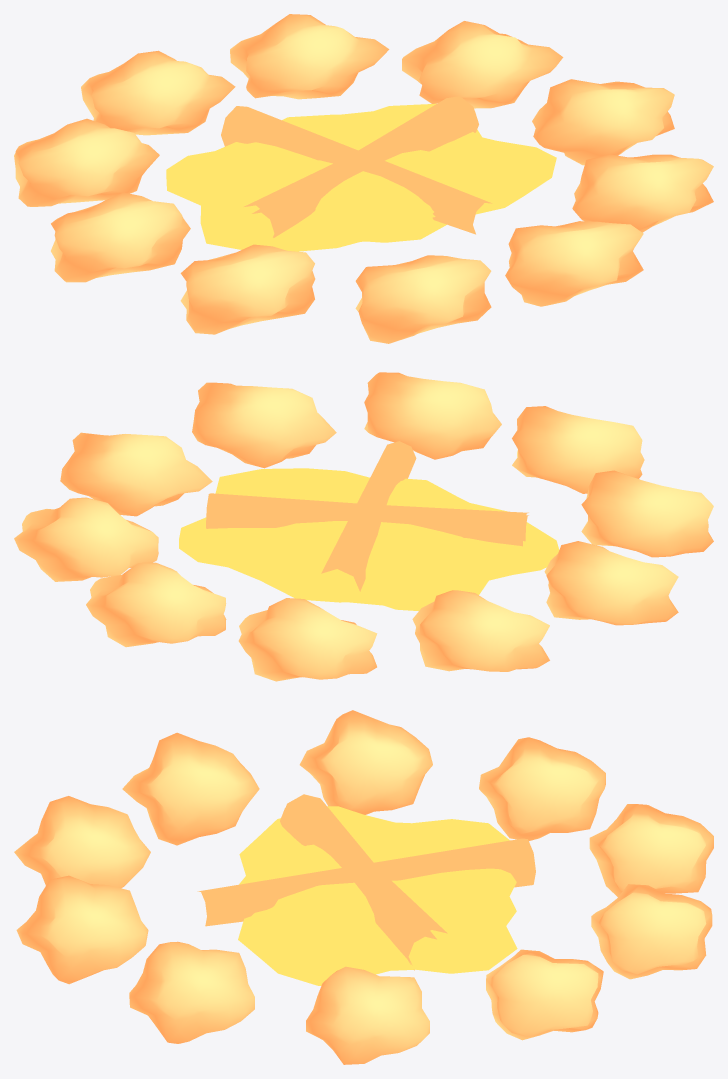
File: campfire_pit.glb
3 views of the same model, one above another, from view 1: azimuth 30°, elevation 25°; view 2: azimuth 150°, elevation 25°; view 3: azimuth 270°, elevation 25° (orthographic). The views are drawn at different scales.
Visible parts, largest first — view 1: CampfirePit; view 2: CampfirePit; view 3: CampfirePit.
Boxes of the visible parts, x1,y1,x2,y2 form: CampfirePit: [14, 14, 713, 343]; CampfirePit: [14, 372, 713, 681]; CampfirePit: [14, 710, 713, 1064].
Bounding box in the file's own units: 2.36 × 0.2469 × 2.23.
